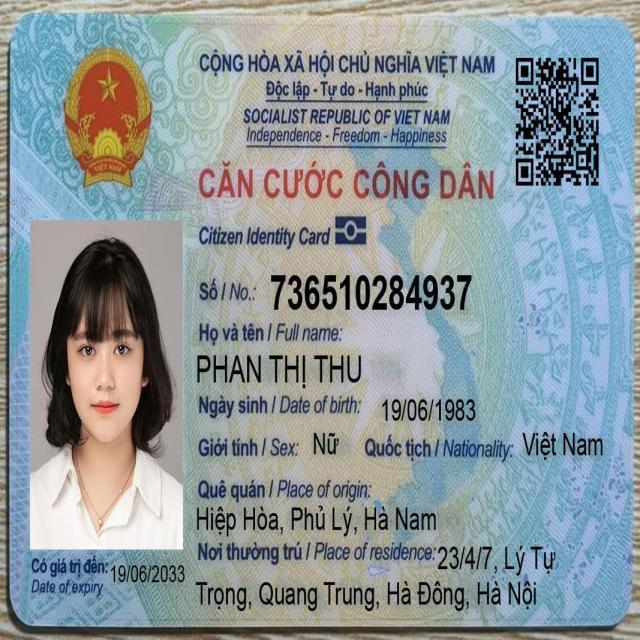current_place: (192, 577, 541, 617), (435, 537, 560, 580)
dob: (379, 391, 480, 428)
expire_date: (107, 558, 187, 589)
gender: (309, 424, 344, 464)
id: (266, 264, 475, 317)
name: (194, 348, 366, 393)
nationality: (519, 425, 606, 465)
origin_place: (192, 501, 440, 540)
qr: (511, 49, 603, 195)
